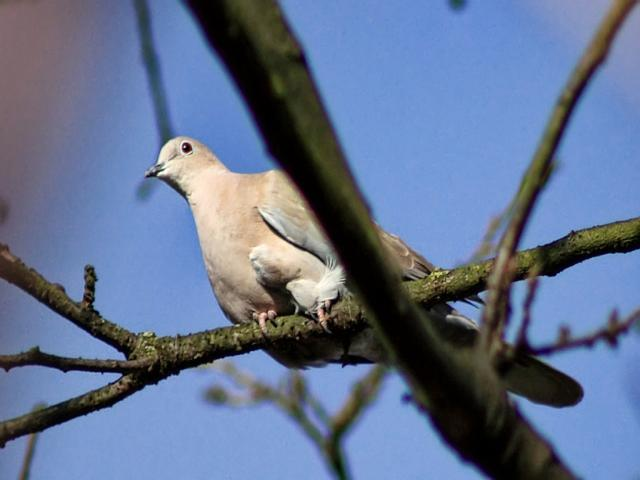Bird: (143, 133, 587, 408)
